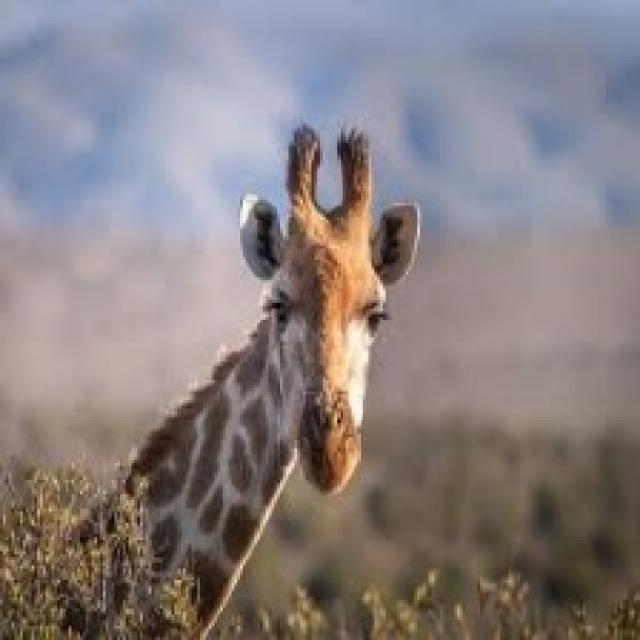animal: (101, 98, 470, 597)
